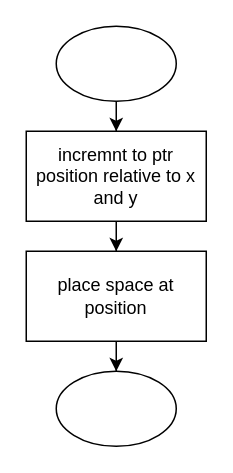
Image size: 233x473. Some labels were removed from this diagram. The shapes that lost their labels are listed below. From the top down, each one's centre as x and y in pixels, then its label:
the point at 115,63: Start
the point at 115,408: Stop
